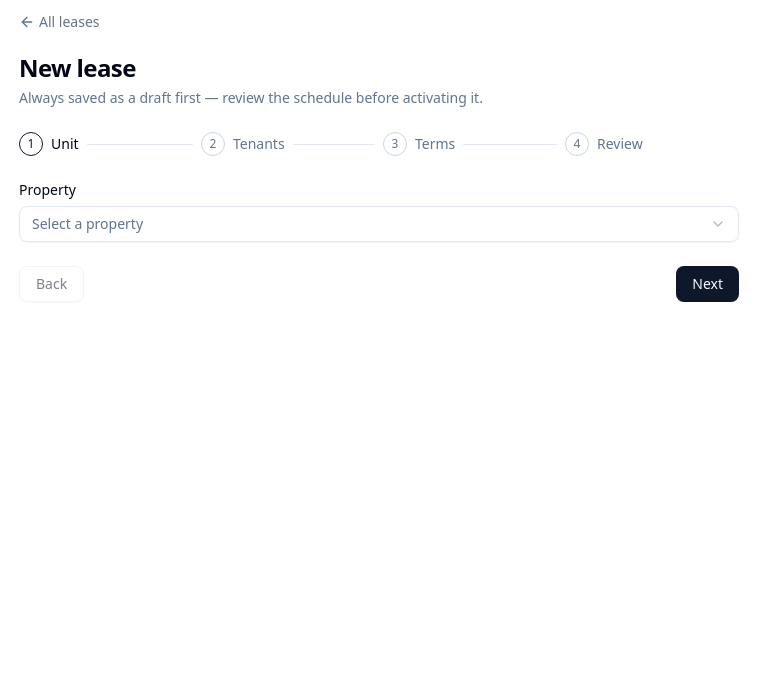
it: CreateLeasePage wizard › marks the only selected tenant primary automatically, then reaches the terms step
What coordinates should you click on to do the following:
click the dropdown labelled "Select a property"
I would click on:
 (88, 224)
Its box is [19,206,739,242].
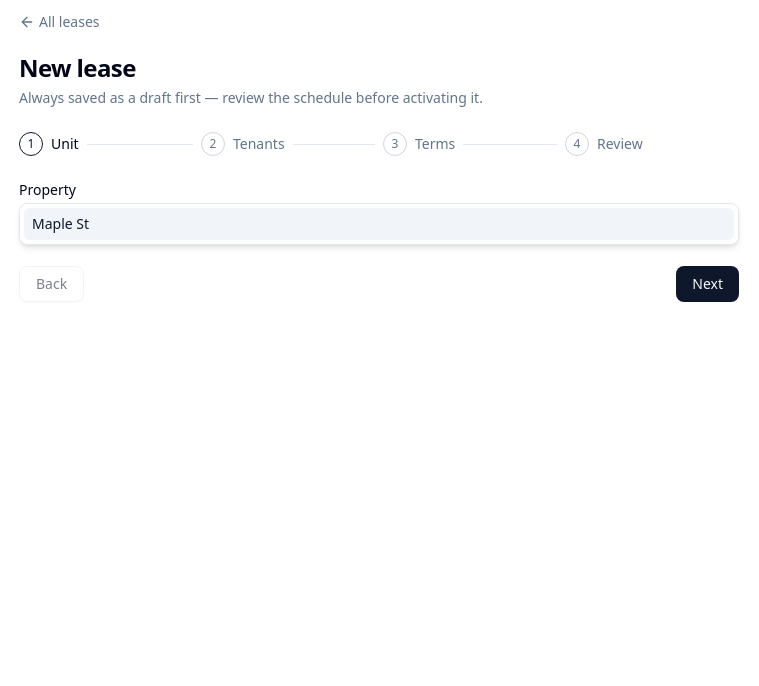
What coordinates should you click on to do the following:
click the option "Maple St"
I would click on:
 (61, 224)
Its box is [24,208,734,240].
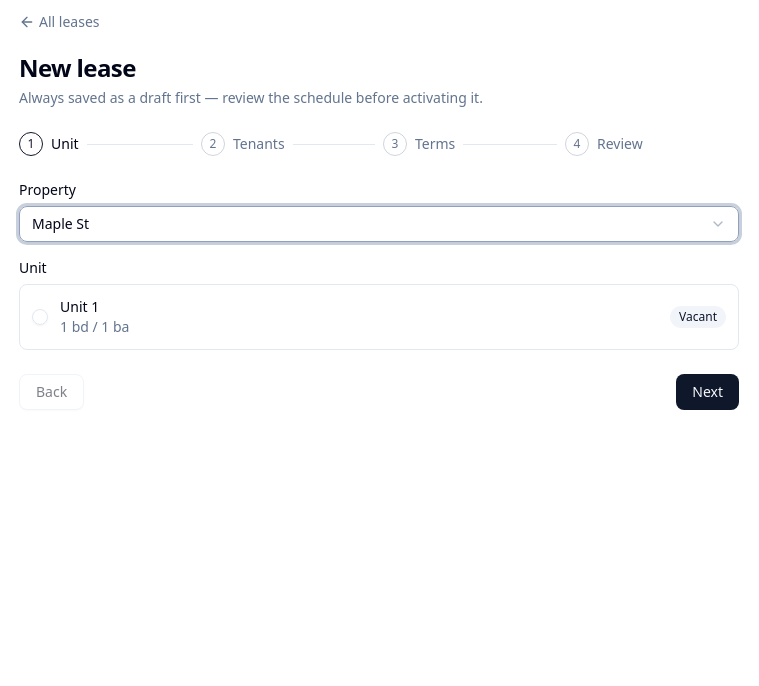
What coordinates should you click on to do the following:
click the radio button named "unit 1"
I would click on:
 (40, 317)
Its box is [32,309,48,325].
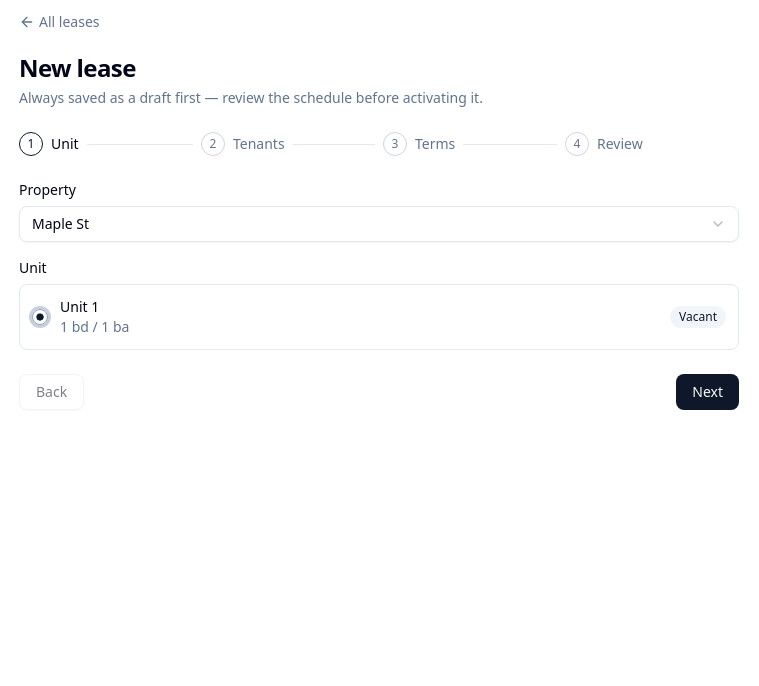
What coordinates should you click on to do the following:
click the button "Next"
I would click on:
 (708, 392)
Its box is [676,374,739,410].
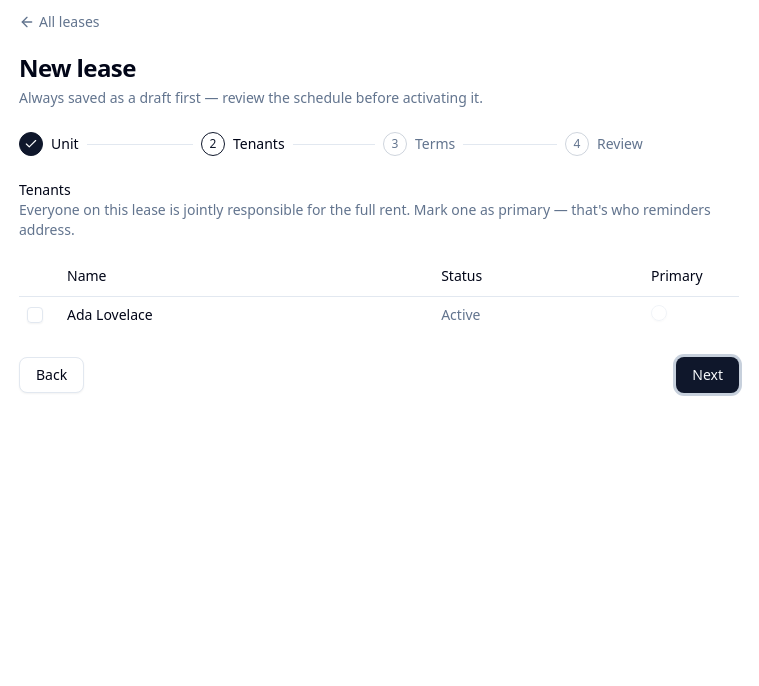
What coordinates should you click on to do the following:
click the checkbox named "select ada lovelace"
I would click on:
 (35, 314)
Its box is [27,306,43,322].
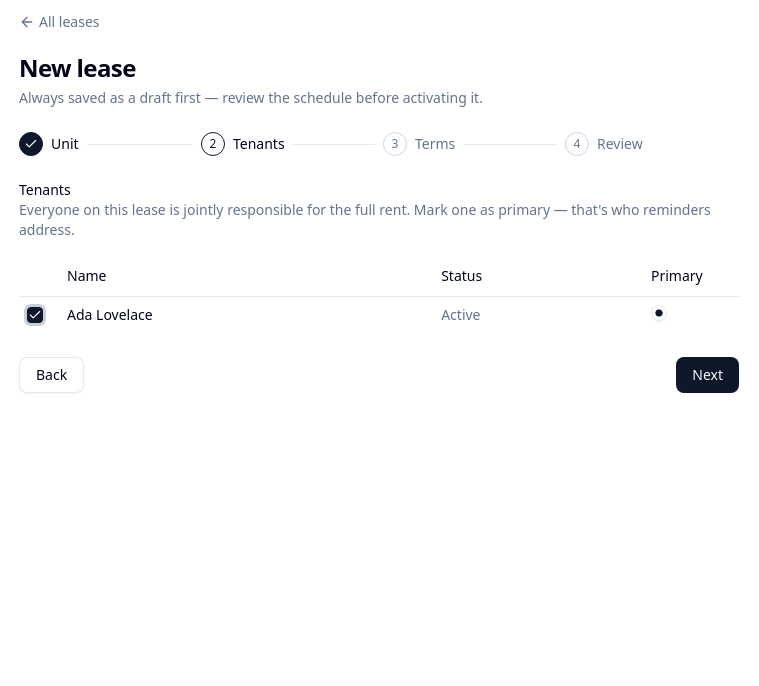
What coordinates should you click on to do the following:
click the button "Next"
I would click on:
 (708, 374)
Its box is [676,356,739,392].
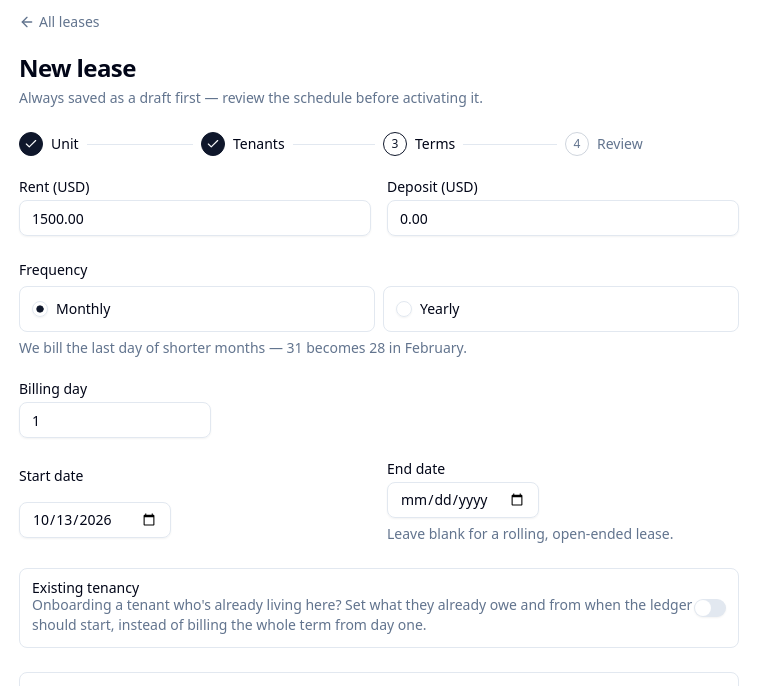
Expected: the text "Frequency" is shown, [19,260,87,279]
